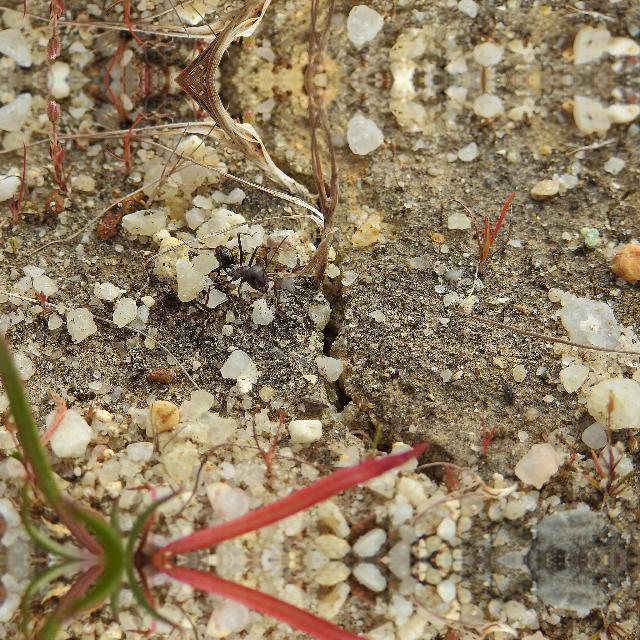Cataglyphis: (202, 235, 282, 298)
